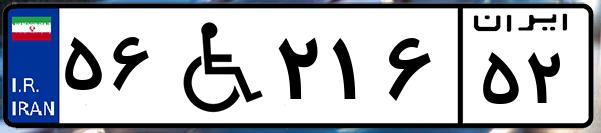1: (330, 28, 385, 110)
2: (270, 28, 330, 110), (525, 38, 570, 115)
5: (57, 26, 110, 100), (475, 38, 525, 113)
6: (385, 28, 445, 110), (110, 28, 158, 98)
ژ (معلولین و جانبازان): (158, 12, 270, 120)
